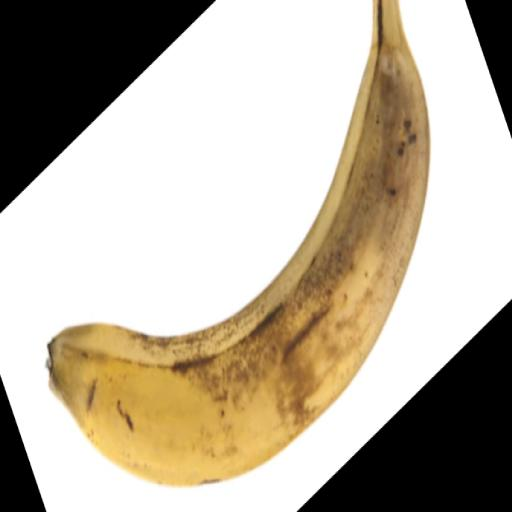banana-overripe: (19, 0, 438, 512)
